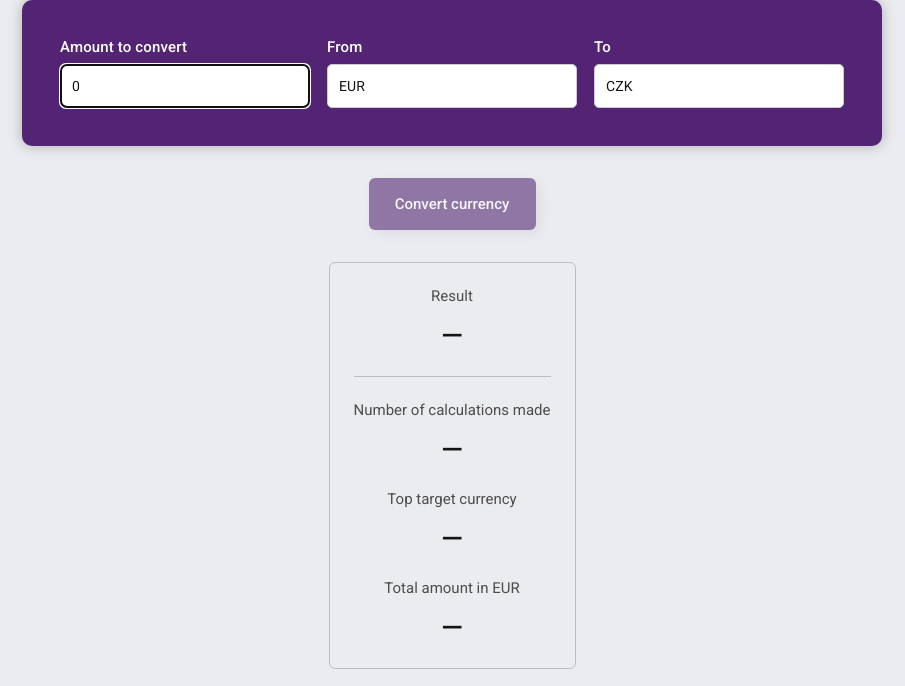
the currency combobox (§10) › navigates with the arrows
The width and height of the screenshot is (905, 686).
Click the dropdown labelled "To": click(719, 86) [594, 64, 844, 108]
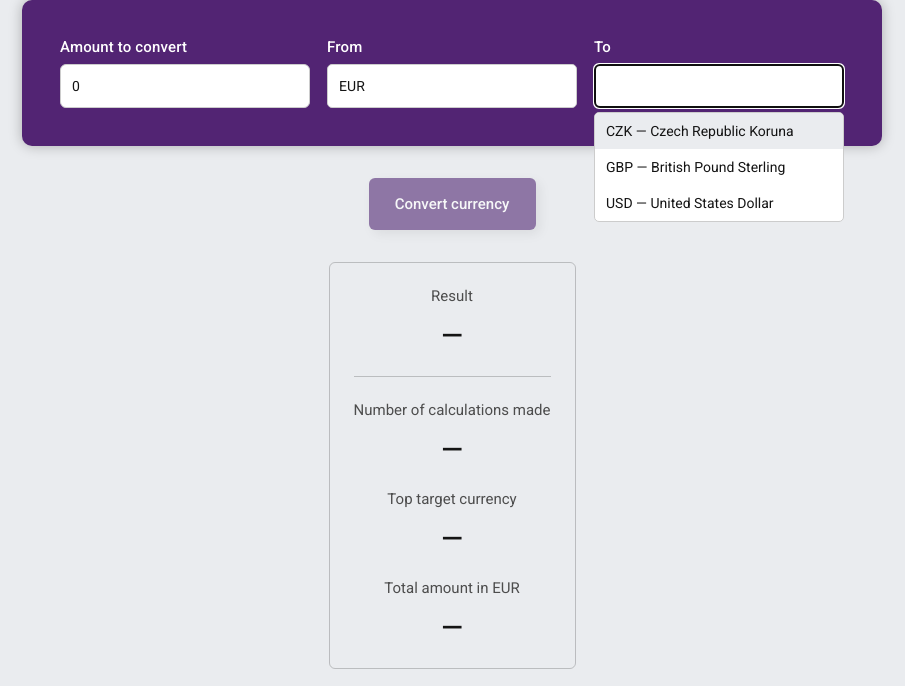
Press Arrowdown Arrowdown Enter
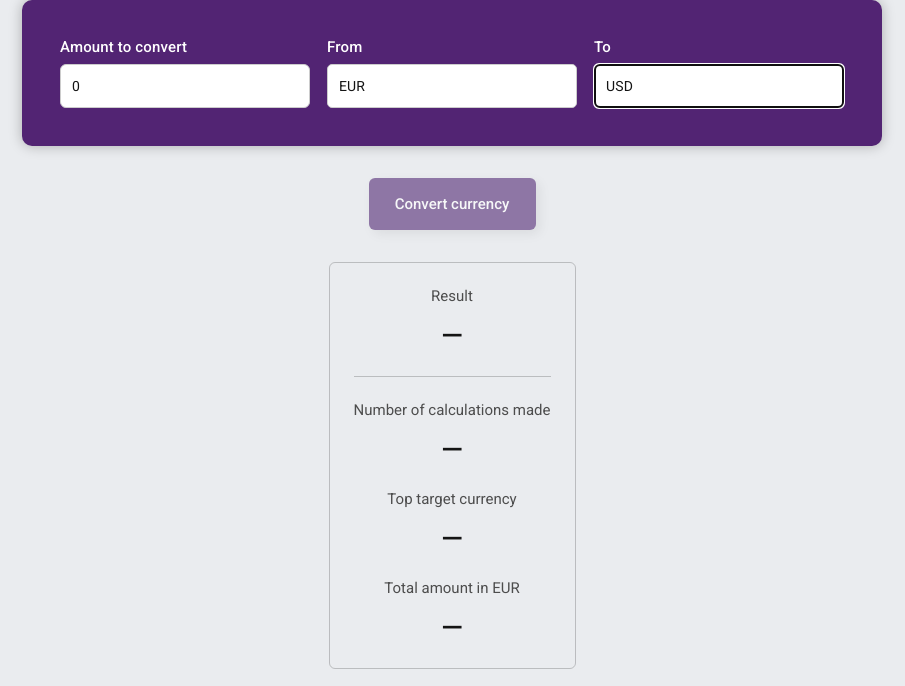
Check: the dropdown labelled "To" holds "USD", box [594, 64, 844, 108]
